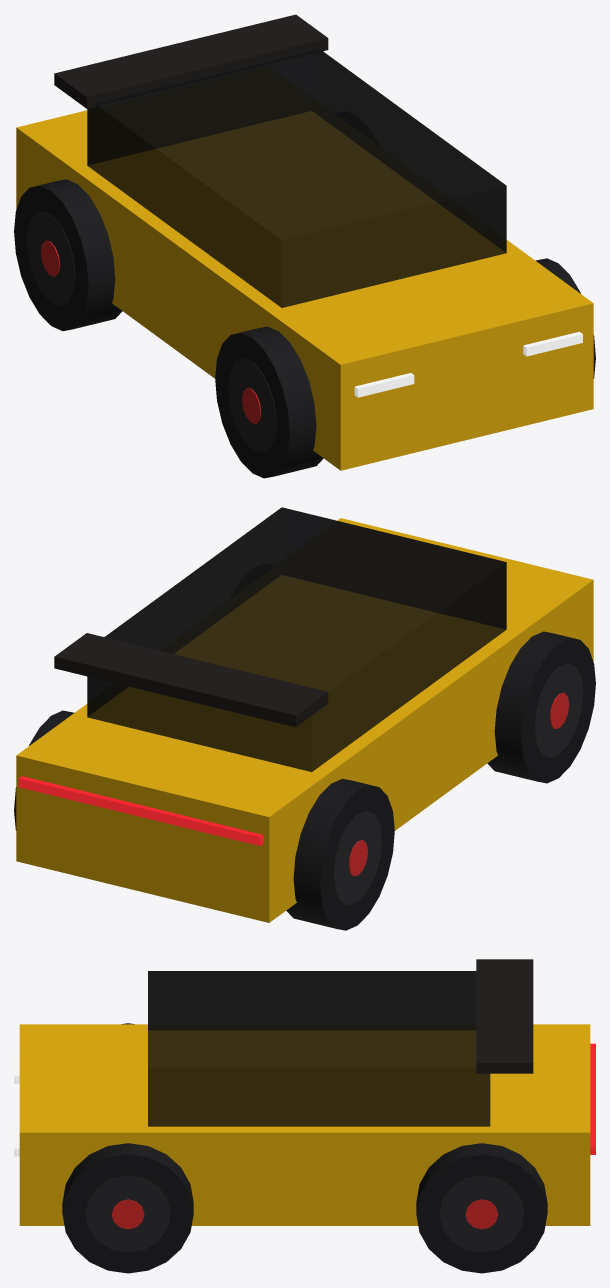
File: lotus_eletre.glb
The picture shows the model from 3 angles, top to bottom: view 1: azimuth 30°, elevation 25°; view 2: azimuth 150°, elevation 25°; view 3: azimuth 270°, elevation 25°; orthographic projection. The views are drawn at different scales.
Bounding box in the file's own units: 0.5387 × 0.3725 × 1.
